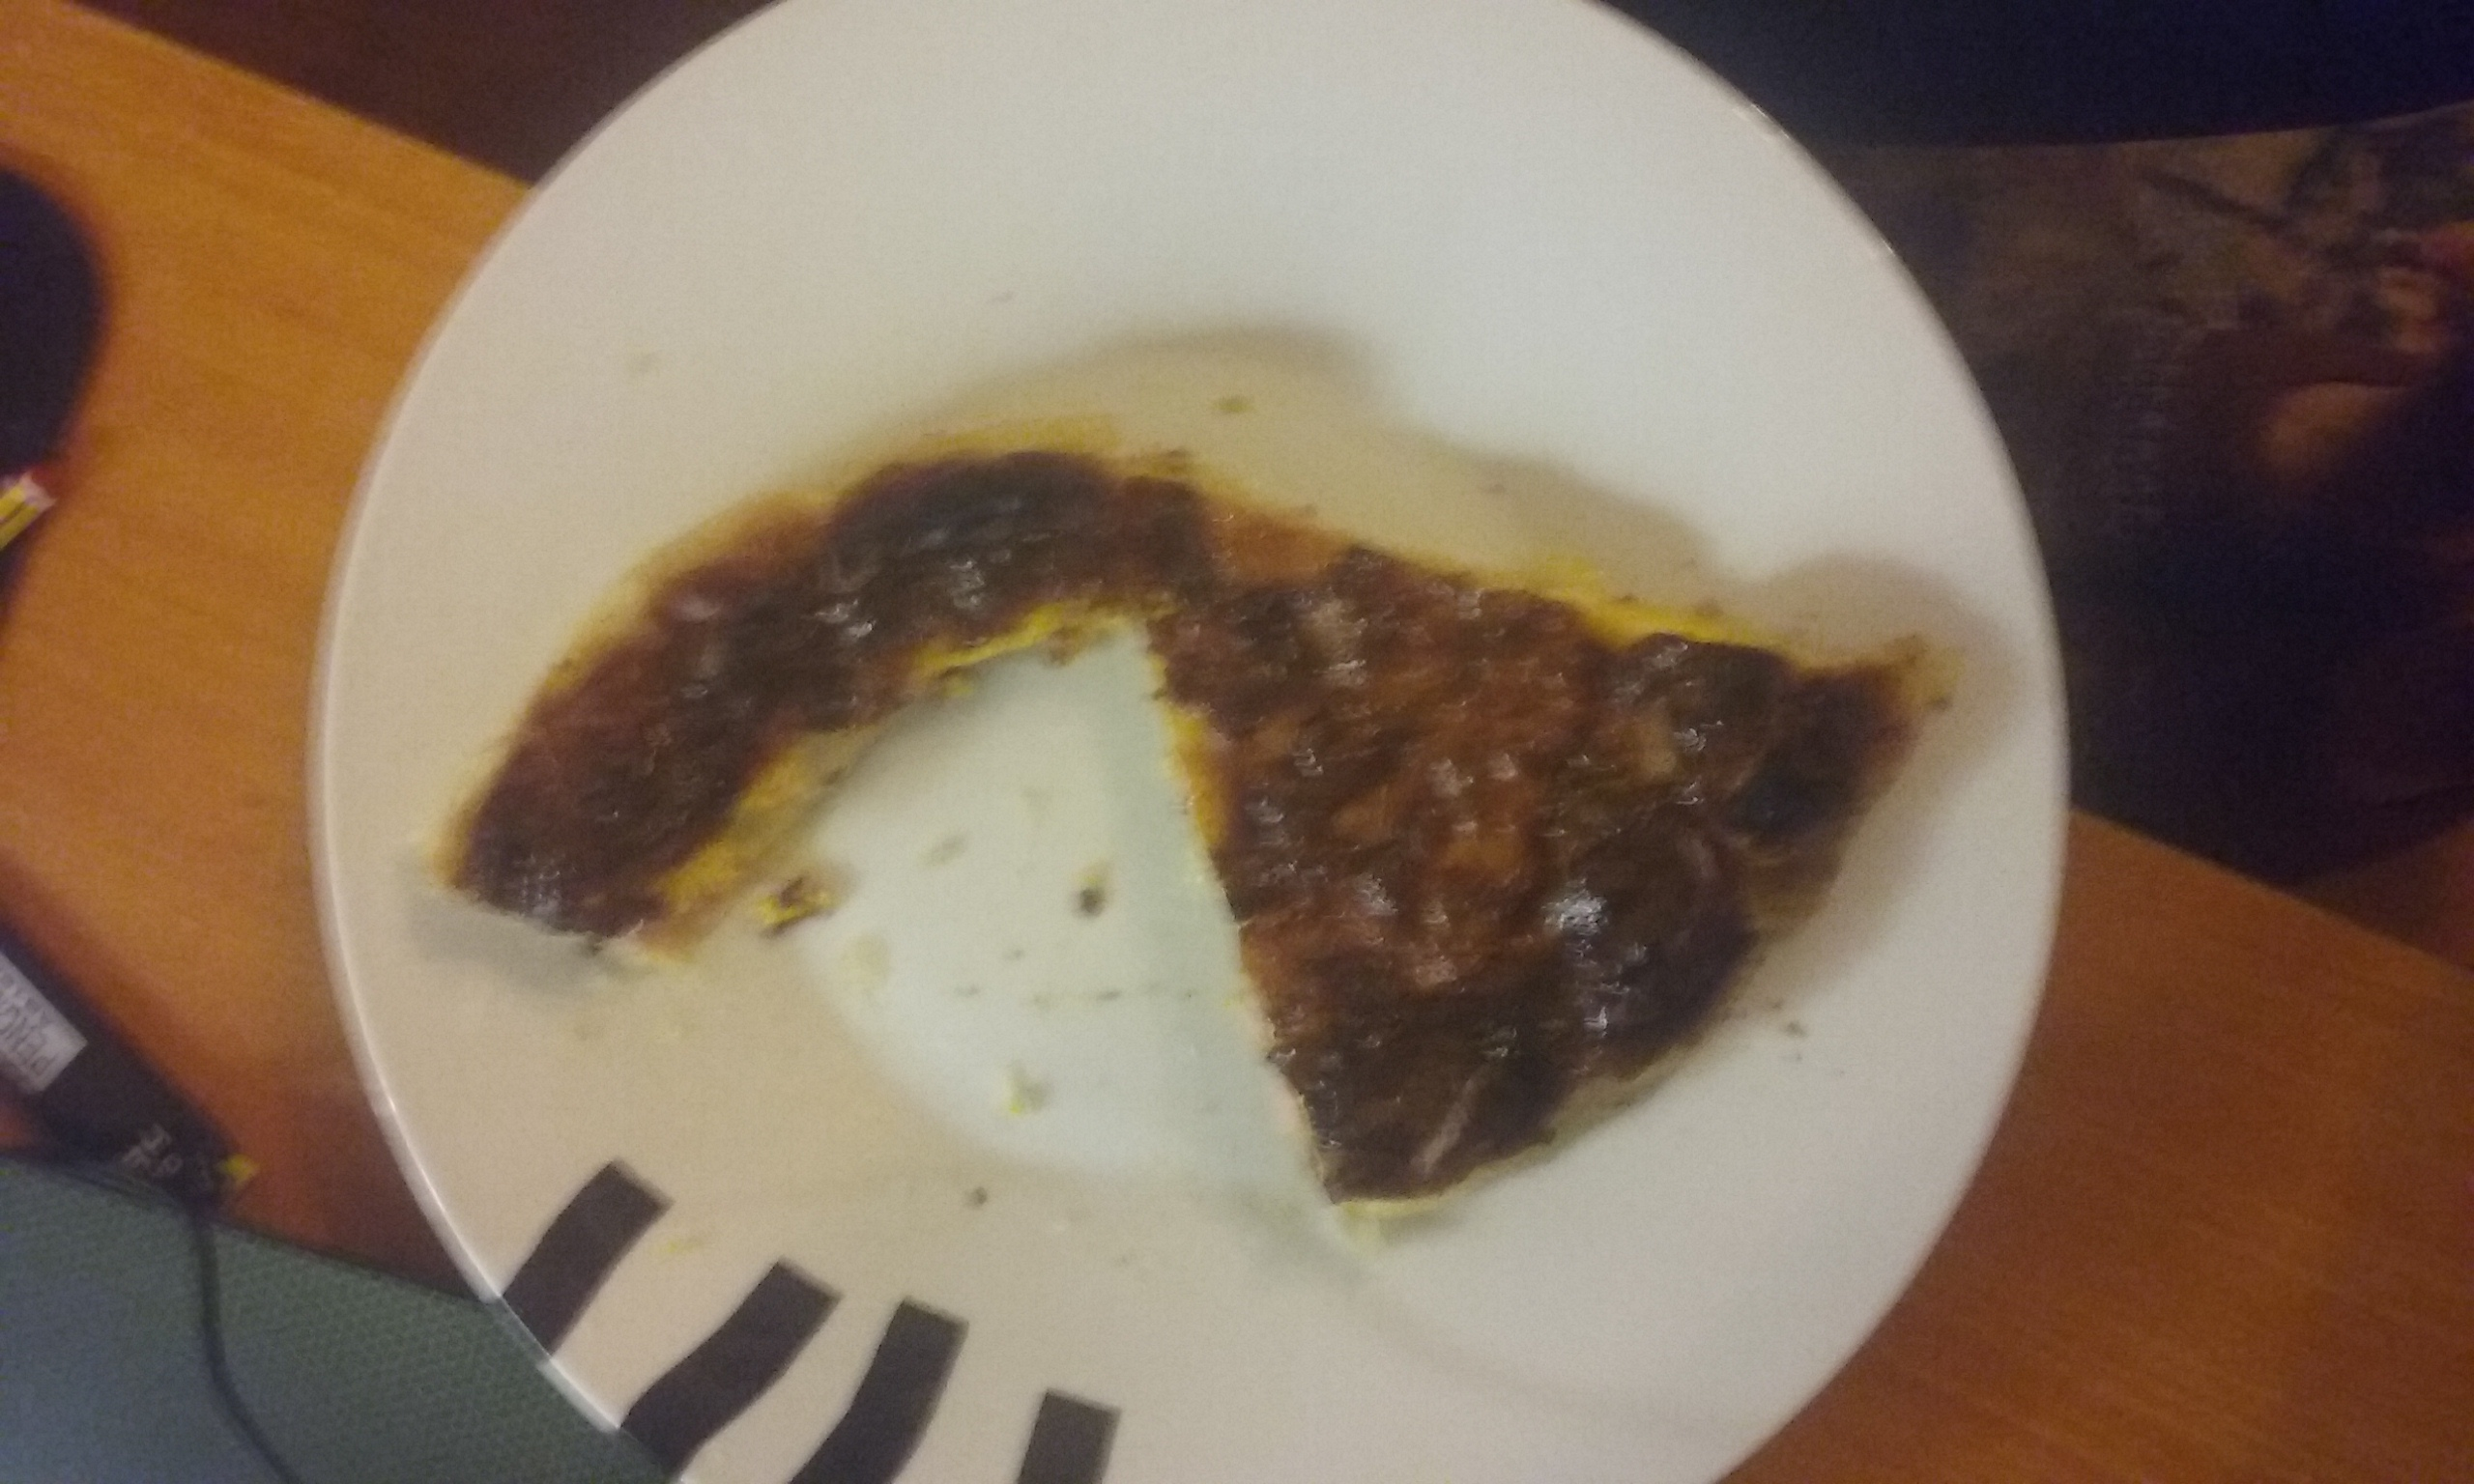61-80: (327, 12, 2057, 1468)
